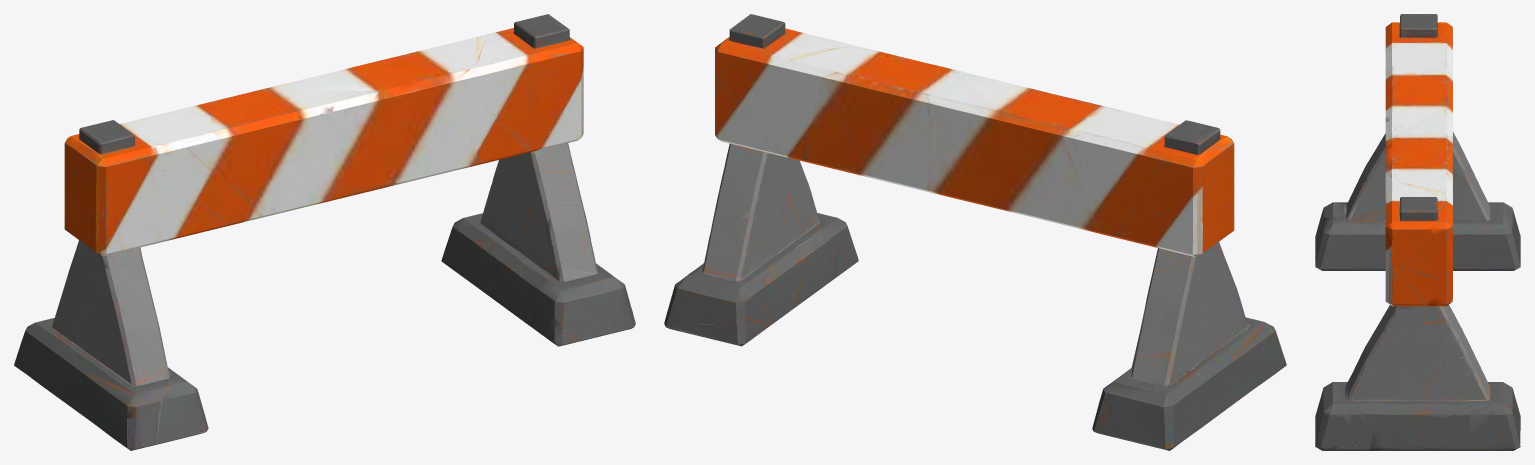
File: barrier.glb
The picture shows the model from 3 angles, left to right: view 1: azimuth 30°, elevation 25°; view 2: azimuth 150°, elevation 25°; view 3: azimuth 270°, elevation 25°; orthographic projection. The views are drawn at different scales.
Bounding box in the file's own units: 1.9 × 0.9667 × 0.7699.
Materials: 1 (1 with a texture image).
